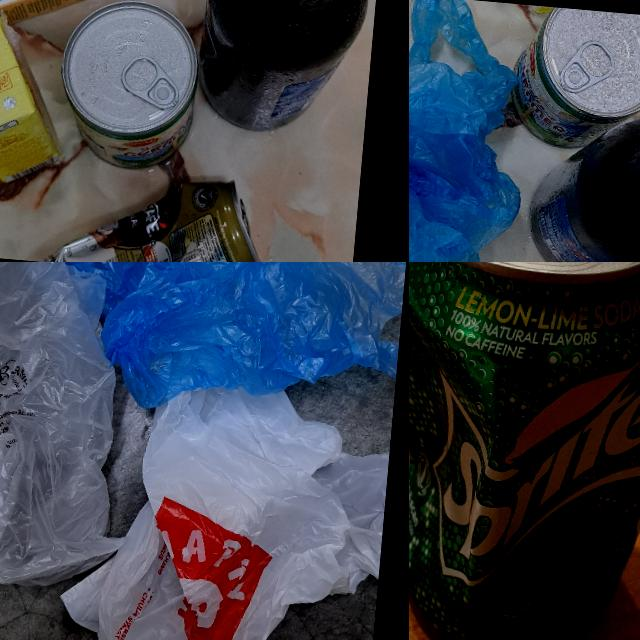aba de lata: (559, 37, 617, 97), (120, 56, 182, 111)
caixinha: (0, 7, 69, 189)
garrafa de vidro: (194, 0, 383, 138), (525, 97, 640, 262)
lata: (409, 262, 640, 640), (53, 0, 203, 172), (46, 161, 267, 262), (506, 4, 640, 156)
sacola plástica: (55, 356, 395, 640), (32, 262, 409, 430), (0, 262, 160, 597), (409, 0, 540, 262)
